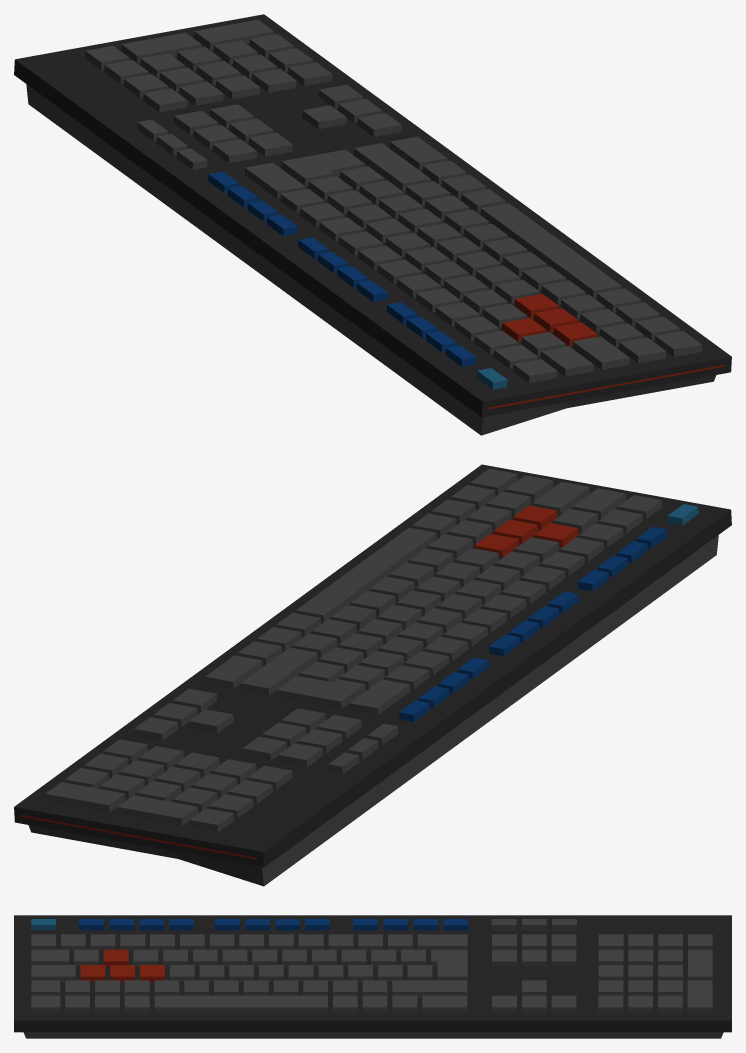
Rendered from Teclado_GonzaloB_46580761.fbx.
The picture shows the model from 3 angles, top to bottom: view 1: azimuth 30°, elevation 25°; view 2: azimuth 150°, elevation 25°; view 3: azimuth 270°, elevation 25°; orthographic projection. The views are drawn at different scales.
Parts seen in each view (by area): view 1: BaseArriba; view 2: BaseArriba; view 3: BaseArriba.
Boxes of the visible parts, x1,y1,x2,y2 form: BaseArriba: (14, 14, 731, 435); BaseArriba: (14, 464, 731, 886); BaseArriba: (14, 915, 731, 1038).
Bounding box in the file's own units: 12.52 × 2.39 × 40.57.
1 material, 1 textured.
